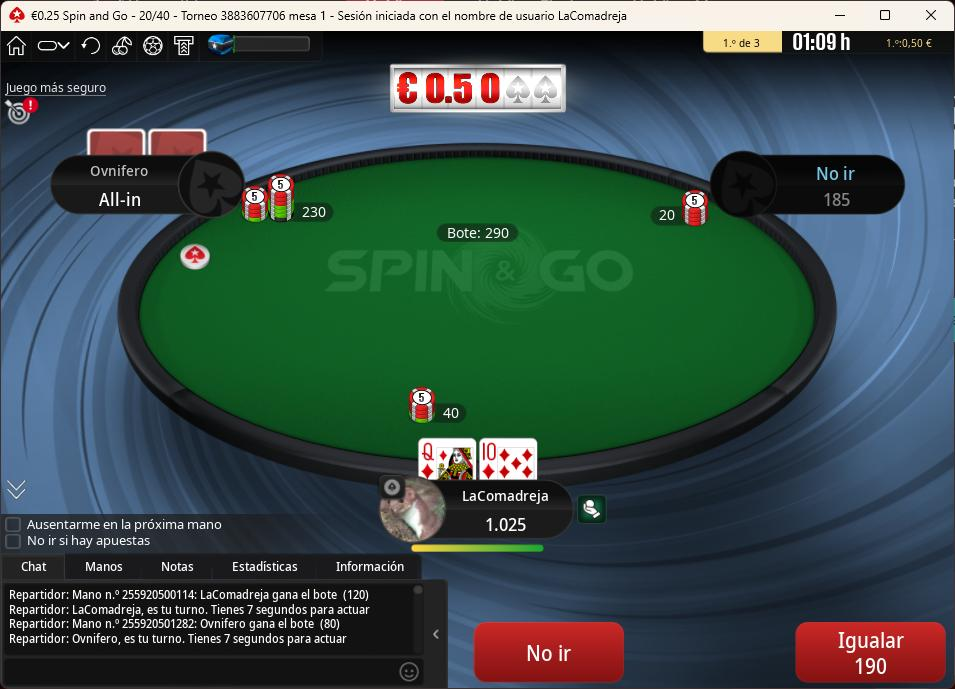ButtonCall: (795, 619, 950, 684)
ButtonFold: (471, 619, 625, 686)
Dealer: (180, 242, 214, 273)
HiddenCards: (83, 129, 212, 158)
Player: (715, 151, 908, 214), (49, 152, 244, 214)
PlayerBet: (240, 168, 338, 232), (649, 185, 714, 236)
PlayerChips: (478, 518, 537, 538), (91, 190, 148, 209), (820, 192, 862, 210)
Pot: (436, 222, 518, 243)
PrincipalBet: (409, 377, 473, 428)
PrincipalCards: (416, 436, 540, 481)
PrincipalCards1: (414, 436, 480, 483)
PrincipalCards2: (479, 436, 542, 482)
PrincipalPlayer: (372, 471, 570, 541)
SmallBigBlind: (129, 2, 180, 27)
